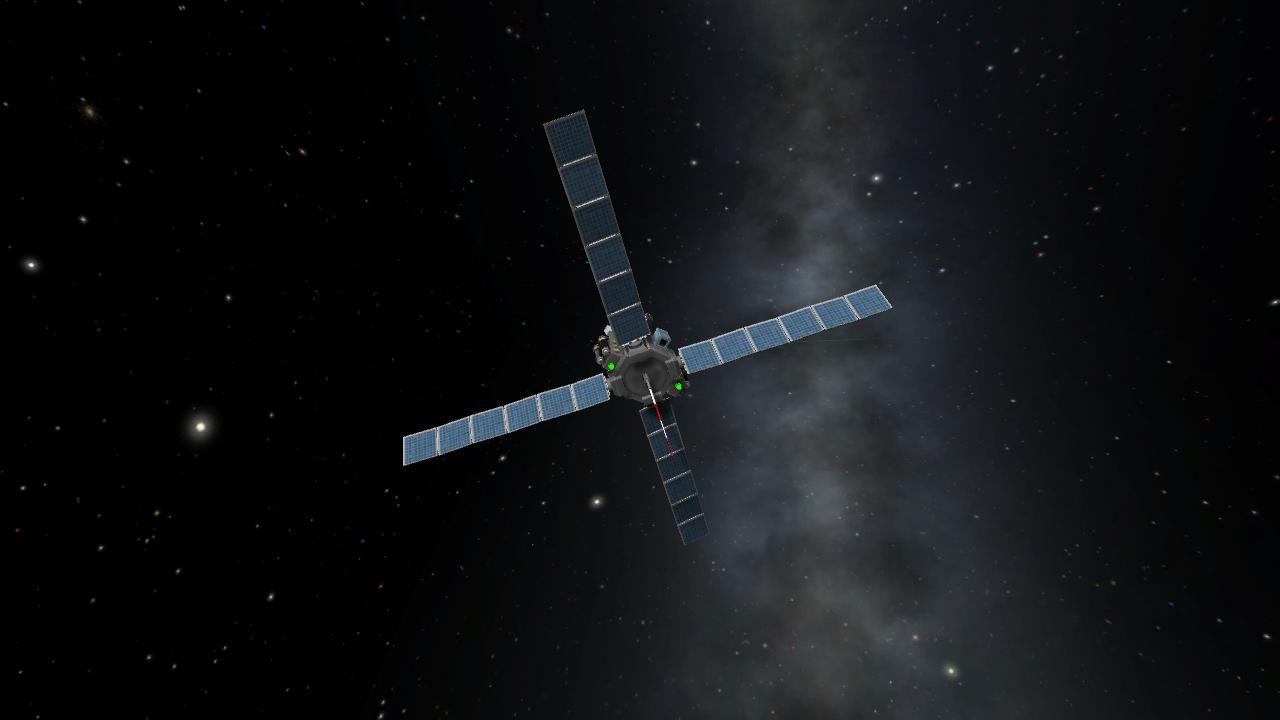antenna: (640, 371, 677, 464)
body: (596, 327, 688, 407)
solar: (540, 106, 653, 349), (676, 282, 897, 377), (400, 370, 613, 468), (637, 398, 712, 548)
